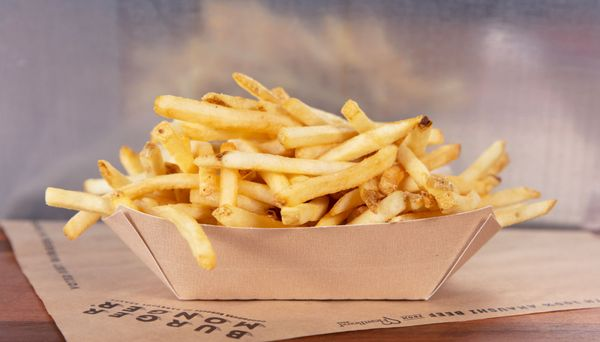pasta: (71, 72, 559, 231)
